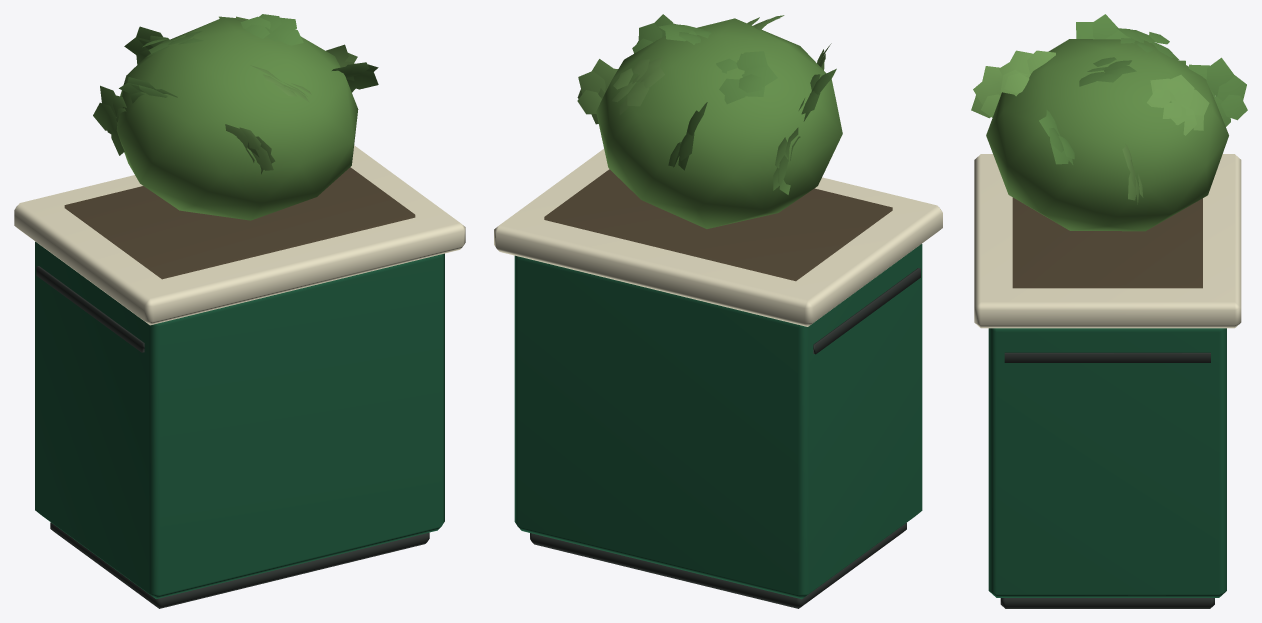
Rendered from deck_planter_short.glb.
3 views of the same model, side by side, from view 1: azimuth 30°, elevation 25°; view 2: azimuth 150°, elevation 25°; view 3: azimuth 270°, elevation 25° (orthographic). The views are drawn at different scales.
Visible parts, largest first — view 1: Box, Shrub0Core, Cap, Soil, Foot, Groove-1, Shrub0Leaves0, Shrub0Leaves9, Shrub0Leaves7, Shrub0Leaves5, Shrub0Leaves6, Shrub0Leaves4; view 2: Box, Shrub0Core, Cap, Soil, Foot, Shrub0Leaves1, Shrub0Leaves3, Shrub0Leaves8, Groove-1, Shrub0Leaves6, Shrub0Leaves9, Shrub0Leaves0 (+2 smaller); view 3: Box, Shrub0Core, Cap, Soil, Foot, Groove1, Shrub0Leaves3, Shrub0Leaves6, Shrub0Leaves2, Shrub0Leaves7, Shrub0Leaves4, Shrub0Leaves0 (+3 smaller).
Boxes of the visible parts, x1,y1,x2,y2 form: Box: (35,241,444,598); Shrub0Core: (116,17,358,220); Cap: (14,145,465,325); Soil: (64,167,415,279); Foot: (50,522,429,608); Groove-1: (36,266,144,352); Shrub0Leaves0: (240,14,303,45); Shrub0Leaves9: (93,85,126,155); Shrub0Leaves7: (225,124,275,174); Shrub0Leaves5: (332,62,378,92); Shrub0Leaves6: (124,26,169,64); Shrub0Leaves4: (119,77,177,103); Box: (514,244,922,599); Shrub0Core: (596,18,842,228); Cap: (494,149,942,326); Soil: (544,169,892,281); Foot: (530,523,906,608); Shrub0Leaves1: (716,51,777,104); Shrub0Leaves3: (612,56,664,114); Shrub0Leaves8: (577,59,617,124); Groove-1: (813,268,920,354); Shrub0Leaves6: (668,102,707,170); Shrub0Leaves9: (773,127,800,194); Shrub0Leaves0: (658,24,711,44); Box: (988,328,1226,597); Shrub0Core: (986,39,1228,231); Cap: (974,154,1241,328); Soil: (1012,197,1202,288); Foot: (1000,598,1214,608); Groove1: (1004,352,1210,362); Shrub0Leaves3: (1147,74,1209,135); Shrub0Leaves6: (1188,57,1247,126); Shrub0Leaves2: (999,50,1055,96); Shrub0Leaves7: (971,66,1002,118); Shrub0Leaves4: (1076,14,1130,39); Shrub0Leaves0: (1079,57,1136,86).
Size of the model in its own units: 0.4497 by 0.6776 by 0.3435.
